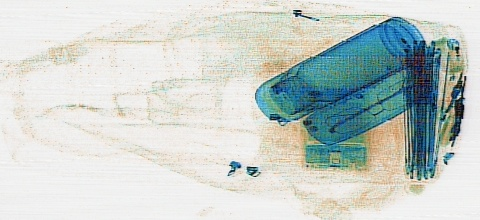lighter: (445, 37, 464, 78)
